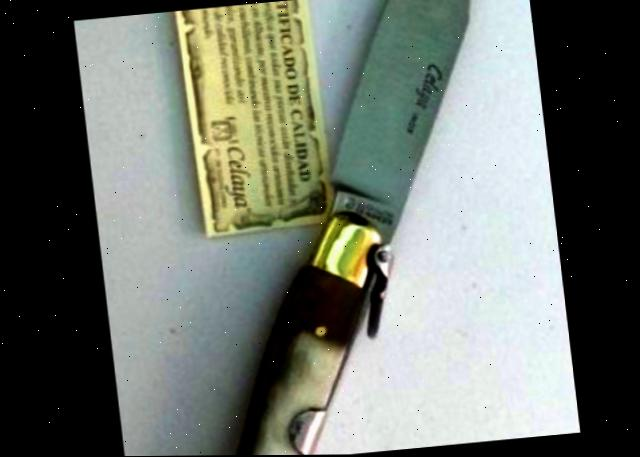pocket-knife: (72, 0, 546, 457)
